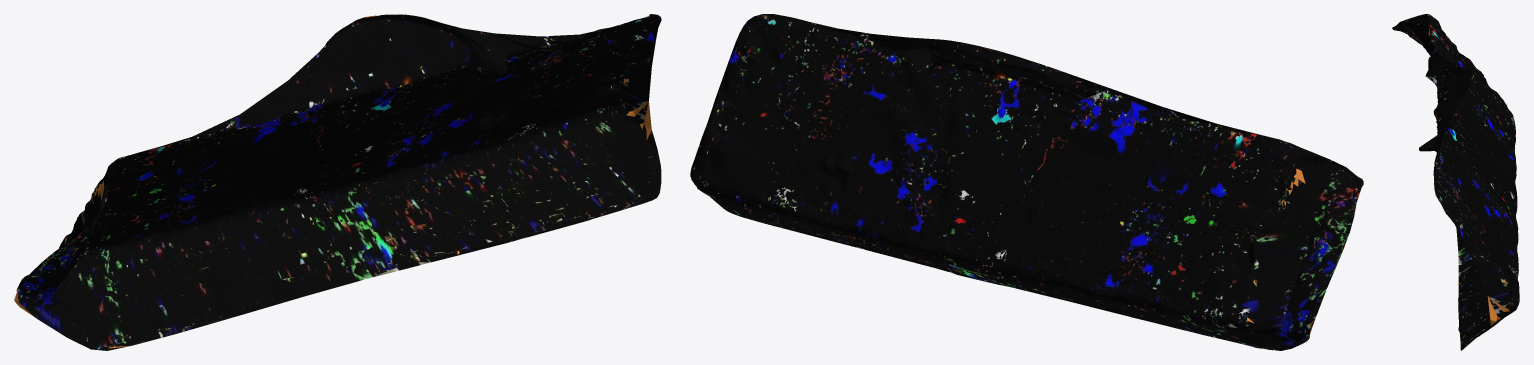
The picture shows the model from 3 angles, left to right: view 1: azimuth 30°, elevation 25°; view 2: azimuth 150°, elevation 25°; view 3: azimuth 270°, elevation 25°; orthographic projection. The views are drawn at different scales.
Visible parts, largest first — view 1: scene_textured; view 2: scene_textured; view 3: scene_textured.
Boxes of the visible parts, x1=… form: scene_textured: x1=14, y1=14, x2=661, y2=350; scene_textured: x1=690, y1=14, x2=1363, y2=350; scene_textured: x1=1392, y1=14, x2=1519, y2=350.
Size of the model in its own units: 14.84 by 5.69 by 3.54.
1 material, 1 textured.
